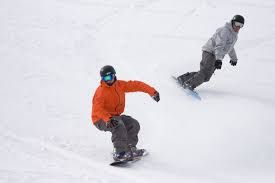snowboarder: (81, 57, 166, 170)
